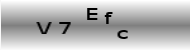7: (57, 20, 71, 36)
E: (85, 7, 98, 21)
V: (35, 20, 52, 34)
c: (116, 29, 128, 41)
f: (103, 10, 113, 25)
